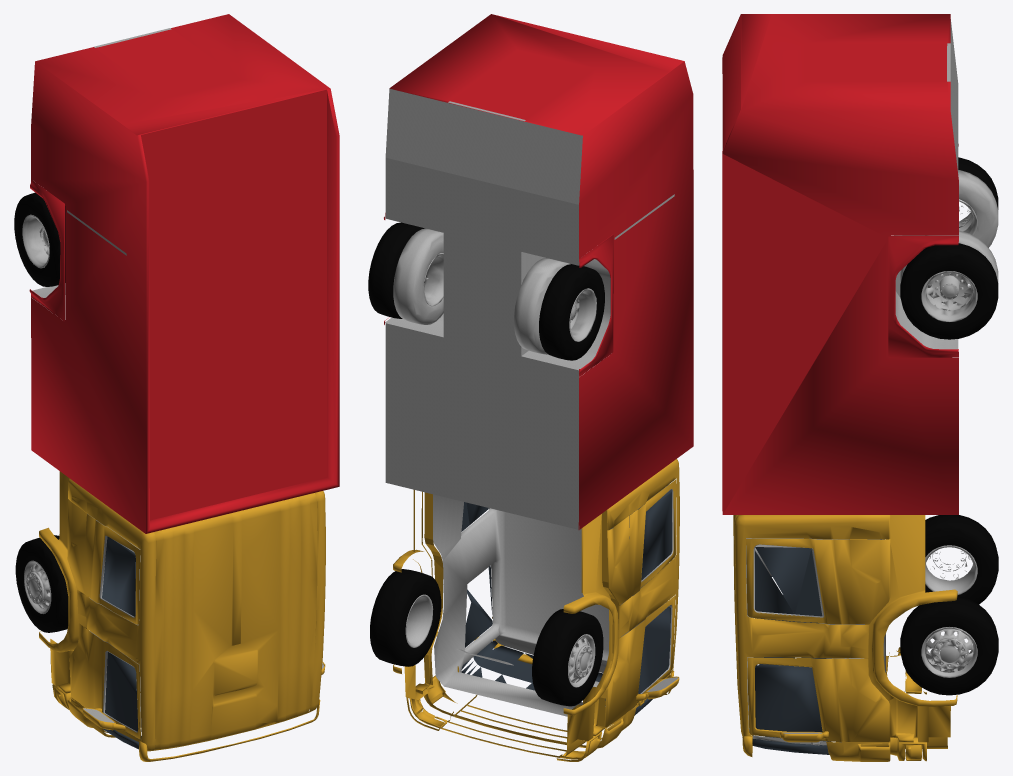
Rendered from xiaofangche.glb.
3 renders of one model, left to right at view 1: azimuth 30°, elevation 25°; view 2: azimuth 150°, elevation 25°; view 3: azimuth 270°, elevation 25°, orthographic. The views are drawn at different scales.
Parts seen in each view (by area): view 1: xiaofangche; view 2: xiaofangche; view 3: xiaofangche.
Part boxes in pixels (x1,y1,x2,y2): xiaofangche: (14, 14, 339, 761); xiaofangche: (368, 14, 693, 761); xiaofangche: (722, 14, 998, 761).
Bounding box in the file's own units: 2.15 × 5.8 × 2.19.
5 materials, 5 textured.
